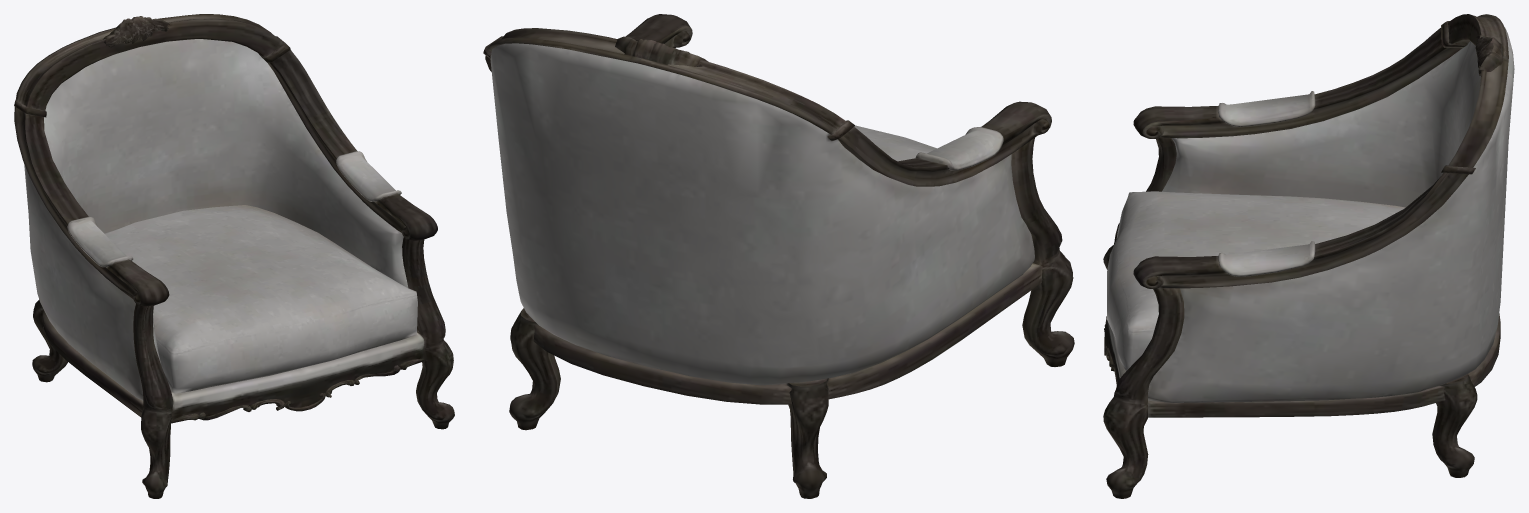
The model's file is ph-armchair-01.glb.
3 renders of one model, left to right at view 1: azimuth 30°, elevation 25°; view 2: azimuth 150°, elevation 25°; view 3: azimuth 270°, elevation 25°, orthographic. The views are drawn at different scales.
Parts seen in each view (by area): view 1: ArmChair_01; view 2: ArmChair_01; view 3: ArmChair_01.
Part boxes in pixels (x1=…): ArmChair_01: x1=14, y1=14, x2=454, y2=498; ArmChair_01: x1=483, y1=14, x2=1074, y2=498; ArmChair_01: x1=1103, y1=14, x2=1514, y2=498.
Bounding box in the file's own units: 1 × 0.9999 × 1.
1 material, 1 textured.
